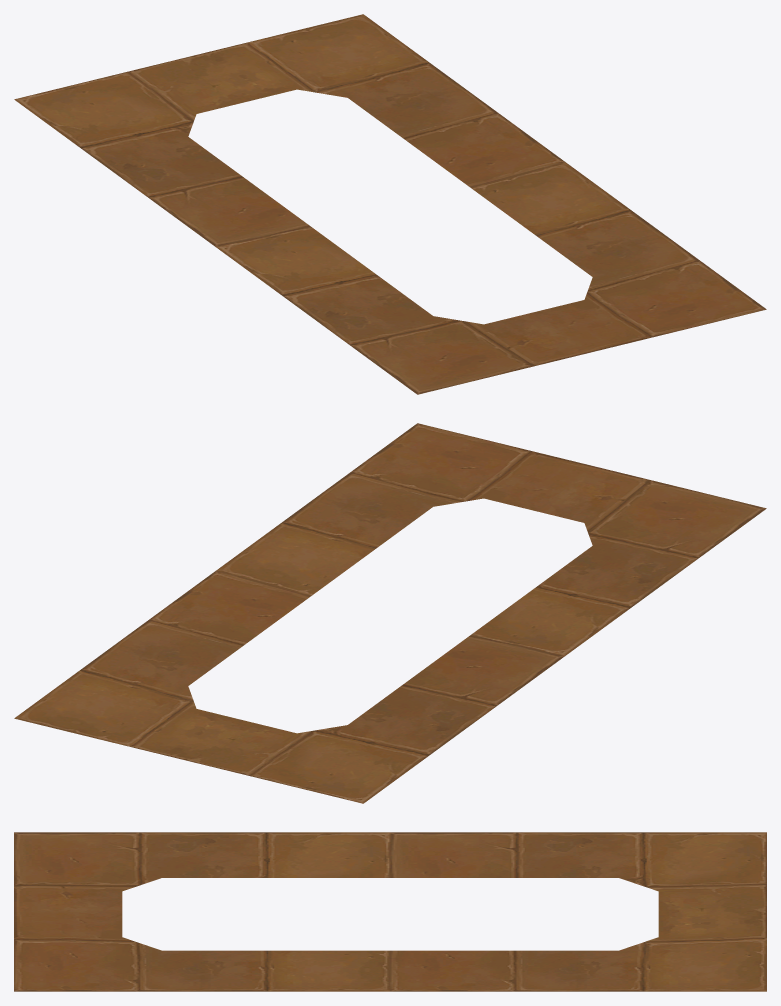
Rendered from shakian_bottom_base4_tombtile02_01.FBX.
3 views of the same model, one above another, from view 1: azimuth 30°, elevation 25°; view 2: azimuth 150°, elevation 25°; view 3: azimuth 270°, elevation 25° (orthographic). The views are drawn at different scales.
Visible parts, largest first — view 1: shakian_bottom_base4_tombtile02_01; view 2: shakian_bottom_base4_tombtile02_01; view 3: shakian_bottom_base4_tombtile02_01.
Boxes of the visible parts, <box> form: shakian_bottom_base4_tombtile02_01: <box>14,14,766,394</box>; shakian_bottom_base4_tombtile02_01: <box>14,423,766,803</box>; shakian_bottom_base4_tombtile02_01: <box>14,832,766,991</box>.
Bounding box in the file's own units: 4 × 0.0271 × 8.
